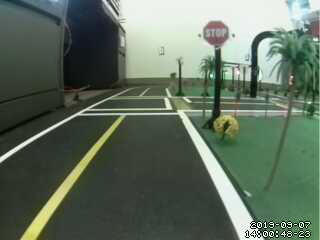Stop_Sign: (200, 17, 237, 52)
